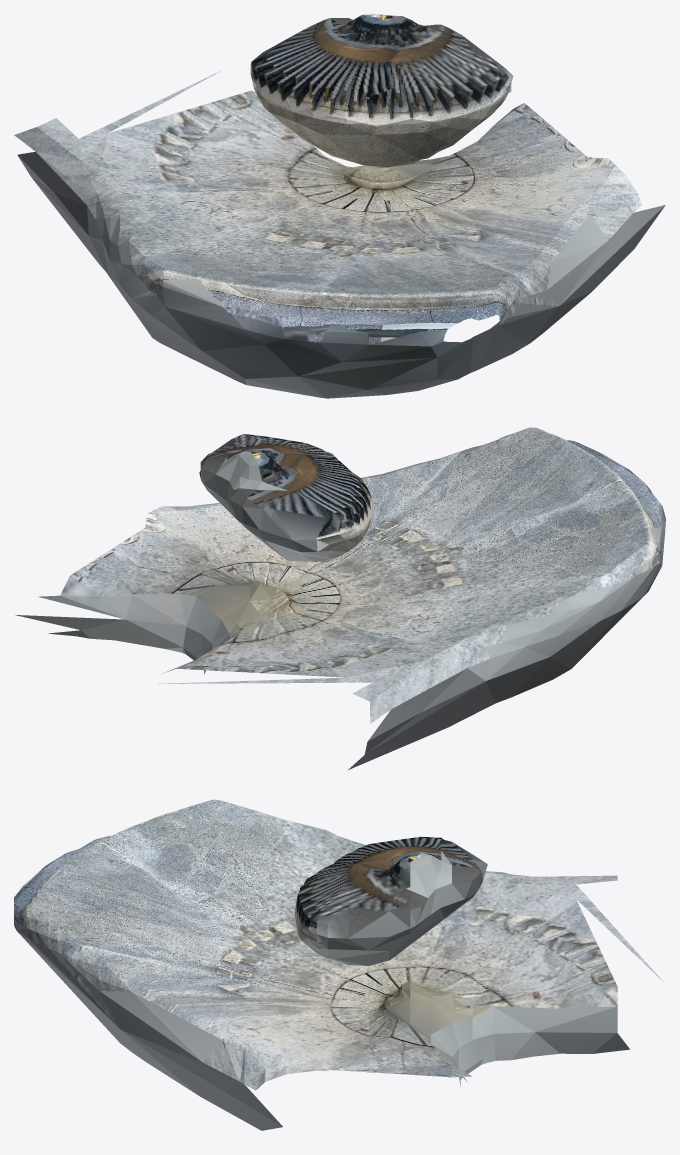
The picture shows the model from 3 angles, top to bottom: view 1: azimuth 30°, elevation 25°; view 2: azimuth 150°, elevation 25°; view 3: azimuth 270°, elevation 25°; orthographic projection. The views are drawn at different scales.
Bounding box in the file's own units: 3.69 × 1.38 × 4.12.
1 material, 1 textured.
